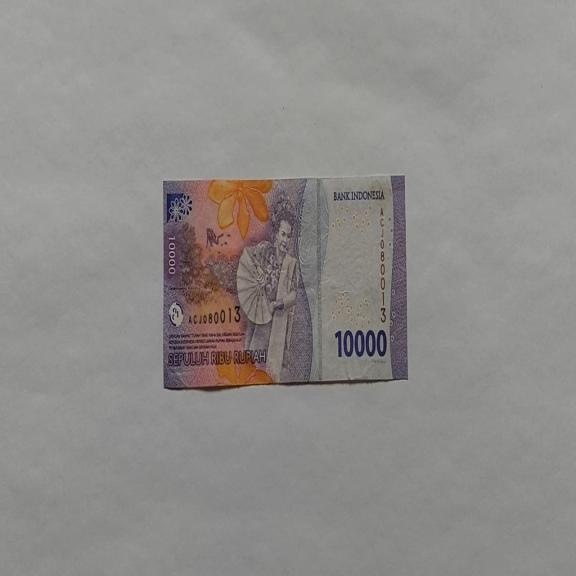Kertas: (162, 174, 408, 390), (334, 326, 387, 360)
